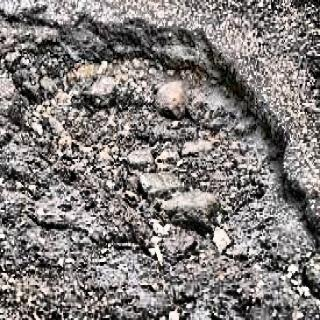pothole: (19, 21, 318, 286)
